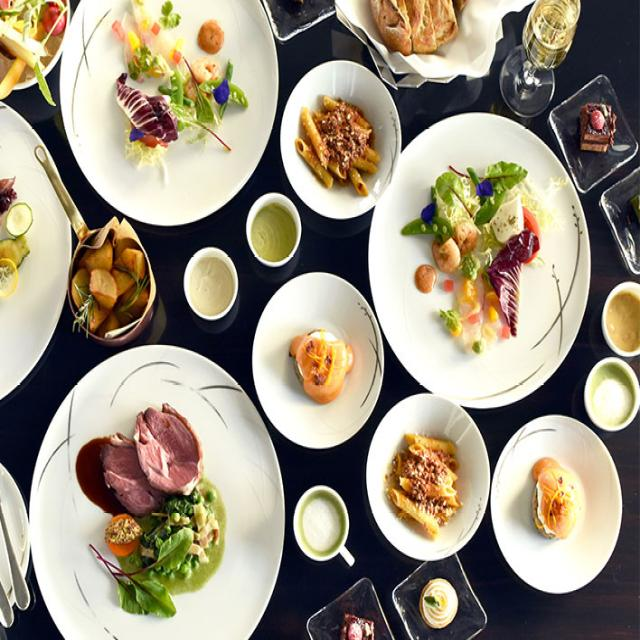cuu ham: (38, 360, 265, 624)
khoai tay chien: (64, 225, 156, 332)
nui: (291, 76, 382, 204), (382, 408, 466, 534)
salad: (93, 0, 233, 193), (412, 148, 536, 362)
